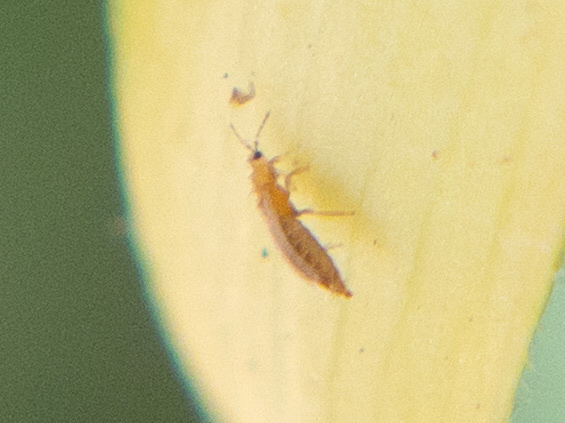tiny_pests: (202, 87, 377, 322)
